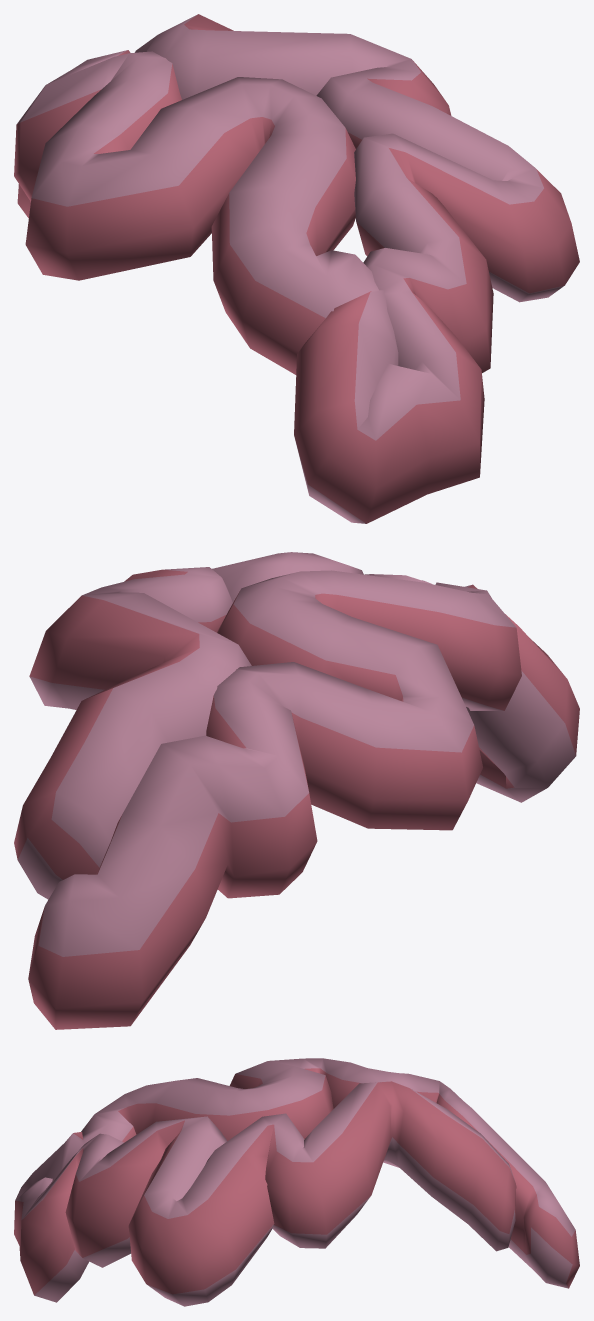
Rendered from Brain.fbx.
3 renders of one model, top to bottom at view 1: azimuth 30°, elevation 25°; view 2: azimuth 150°, elevation 25°; view 3: azimuth 270°, elevation 25°, orthographic. The views are drawn at different scales.
Parts seen in each view (by area): view 1: Brain; view 2: Brain; view 3: Brain.
Part boxes in pixels (left/top/right/bottom): Brain: left=14, top=14, right=579, bottom=523; Brain: left=14, top=552, right=579, bottom=1029; Brain: left=14, top=1058, right=579, bottom=1306.
Bounding box in the file's own units: 0.3014 × 0.1918 × 0.4451.
